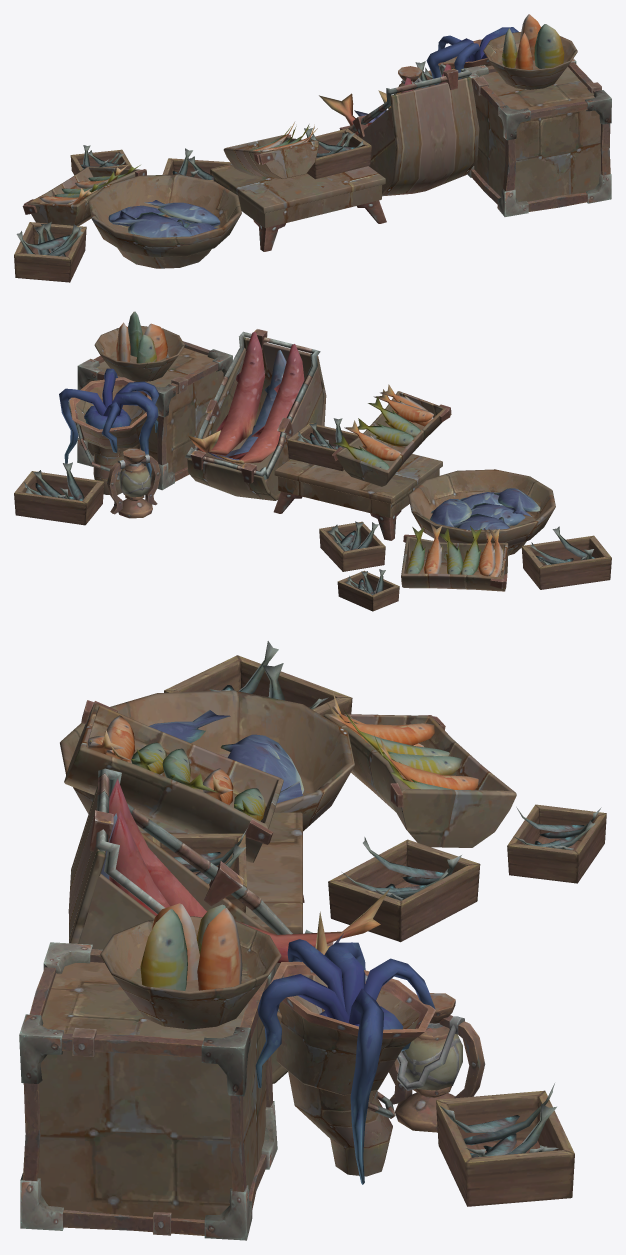
The model's file is Homeworld_Exterior_Fd_Decoration_Prop_BszTanwei_01_Vo.fbx.
The picture shows the model from 3 angles, top to bottom: view 1: azimuth 30°, elevation 25°; view 2: azimuth 150°, elevation 25°; view 3: azimuth 270°, elevation 25°; orthographic projection. The views are drawn at different scales.
Visible parts, largest first — view 1: Area_Fd_Prop_YSZ_Tongyongxiangzi_02_Vo, Area_Fd_Prop_YSZ_Tanweiwujian_02_Vo, Area_Fd_Prop_YSZ_Tanweiwujian_05_Vo, Area_Fd_Prop_YSZ_Tanweiwujian_04_Vo (×4), Area_Fd_Prop_YSZ_Tanweiwujian_08_Vo(Clone), Area_Fd_Prop_YSZ_Tanweiwujian_03_Vo (×2), Area_Fd_Prop_YSZ_Tanweiwujian_06_Vo(Clone), Area_Fd_Prop_YSZ_Tongyongyuju_02_Vo; view 2: Area_Fd_Prop_YSZ_Tanweiwujian_02_Vo, Area_Fd_Prop_YSZ_Tanweiwujian_04_Vo (×5), Area_Fd_Prop_YSZ_Tanweiwujian_03_Vo (×2), Area_Fd_Prop_YSZ_Tanweiwujian_05_Vo, Area_Fd_Prop_YSZ_Tongyongxiangzi_02_Vo, Area_Fd_Prop_YSZ_Tongyongyuju_02_Vo, Area_Fd_Prop_YSZ_Tanweiwujian_08_Vo(Clone), Area_Fd_Prop_YSZ_Tanweiwujian_06_Vo(Clone), Area_Fd_Light_YSZ_Tongyongdeng_EverLit_03_Vo(Clone); view 3: Area_Fd_Prop_YSZ_Tongyongxiangzi_02_Vo, Area_Fd_Prop_YSZ_Tanweiwujian_04_Vo (×5), Area_Fd_Prop_YSZ_Tanweiwujian_03_Vo (×2), Area_Fd_Prop_YSZ_Tongyongyuju_02_Vo, Area_Fd_Prop_YSZ_Tanweiwujian_02_Vo, Area_Fd_Prop_YSZ_Tanweiwujian_05_Vo, Area_Fd_Prop_YSZ_Tanweiwujian_06_Vo(Clone), Area_Fd_Light_YSZ_Tongyongdeng_EverLit_03_Vo(Clone), Area_Fd_Prop_YSZ_Tanweiwujian_08_Vo(Clone).
Part boxes in pixels (<box>): Area_Fd_Prop_YSZ_Tongyongxiangzi_02_Vo: <box>461,58,611,216</box>; Area_Fd_Prop_YSZ_Tanweiwujian_02_Vo: <box>319,64,479,196</box>; Area_Fd_Prop_YSZ_Tanweiwujian_05_Vo: <box>88,174,241,268</box>; Area_Fd_Prop_YSZ_Tanweiwujian_04_Vo (×4): <box>14,128,371,282</box>; Area_Fd_Prop_YSZ_Tanweiwujian_08_Vo(Clone): <box>210,163,386,251</box>; Area_Fd_Prop_YSZ_Tanweiwujian_03_Vo (×2): <box>22,122,318,225</box>; Area_Fd_Prop_YSZ_Tanweiwujian_06_Vo(Clone): <box>483,14,577,89</box>; Area_Fd_Prop_YSZ_Tongyongyuju_02_Vo: <box>426,27,518,84</box>; Area_Fd_Prop_YSZ_Tanweiwujian_02_Vo: <box>185,329,326,500</box>; Area_Fd_Prop_YSZ_Tanweiwujian_04_Vo (×5): <box>14,418,611,611</box>; Area_Fd_Prop_YSZ_Tanweiwujian_03_Vo (×2): <box>332,384,508,591</box>; Area_Fd_Prop_YSZ_Tanweiwujian_05_Vo: <box>408,469,555,555</box>; Area_Fd_Prop_YSZ_Tongyongxiangzi_02_Vo: <box>77,341,232,490</box>; Area_Fd_Prop_YSZ_Tongyongyuju_02_Vo: <box>59,368,159,494</box>; Area_Fd_Prop_YSZ_Tanweiwujian_08_Vo(Clone): <box>273,454,442,540</box>; Area_Fd_Prop_YSZ_Tanweiwujian_06_Vo(Clone): <box>94,311,184,381</box>; Area_Fd_Light_YSZ_Tongyongdeng_EverLit_03_Vo(Clone): <box>107,448,160,518</box>; Area_Fd_Prop_YSZ_Tongyongxiangzi_02_Vo: <box>19,942,277,1240</box>; Area_Fd_Prop_YSZ_Tanweiwujian_04_Vo (×5): <box>152,641,606,1206</box>; Area_Fd_Prop_YSZ_Tanweiwujian_03_Vo (×2): <box>64,692,516,862</box>; Area_Fd_Prop_YSZ_Tongyongyuju_02_Vo: <box>255,939,435,1184</box>; Area_Fd_Prop_YSZ_Tanweiwujian_02_Vo: <box>68,768,389,1083</box>; Area_Fd_Prop_YSZ_Tanweiwujian_05_Vo: <box>60,690,354,831</box>; Area_Fd_Prop_YSZ_Tanweiwujian_06_Vo(Clone): <box>100,903,281,1029</box>; Area_Fd_Light_YSZ_Tongyongdeng_EverLit_03_Vo(Clone): <box>389,993,485,1132</box>; Area_Fd_Prop_YSZ_Tanweiwujian_08_Vo(Clone): <box>137,812,304,934</box>.
Size of the model in its own units: 6.73 by 1.78 by 3.21.
